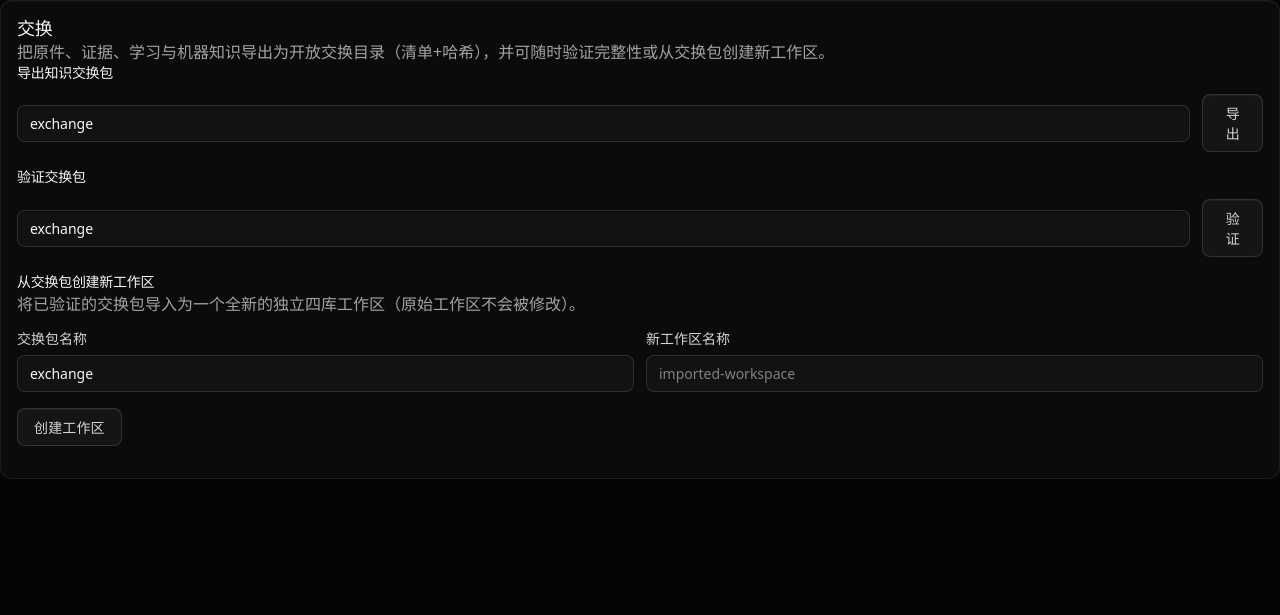
Test: ExchangeSpace › exports an exchange package and shows the receipt
In the field named "交换包名称": (604,123) [17,105,1190,142], type "course"
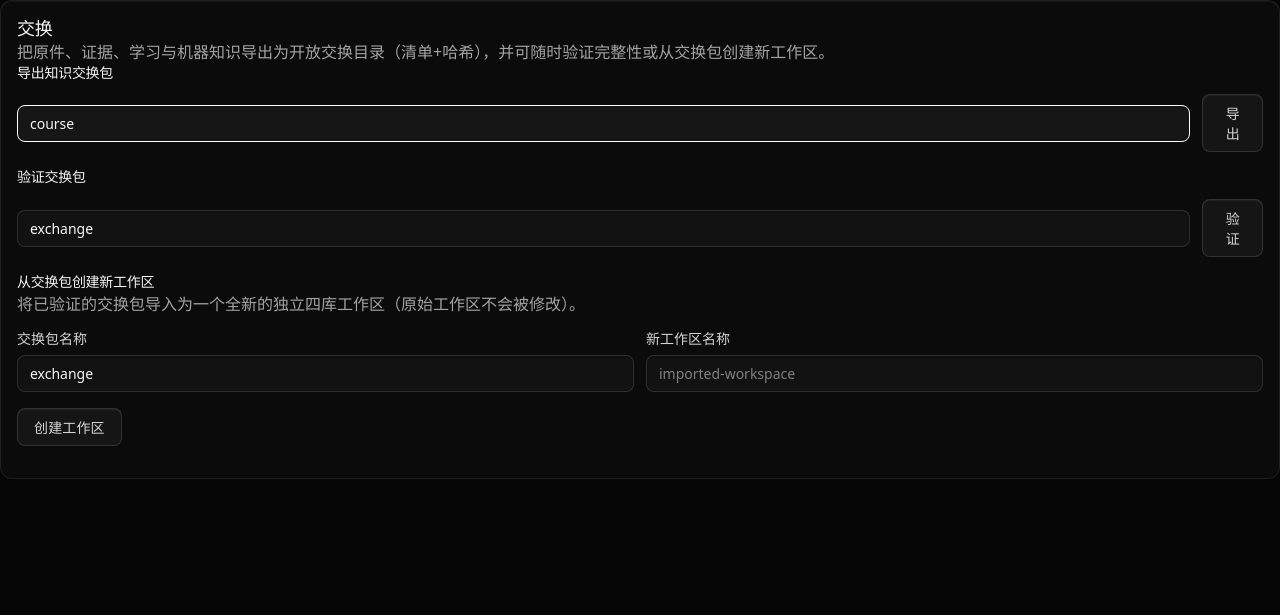
Click the button "导出": (1233,123) [1202,94,1263,152]
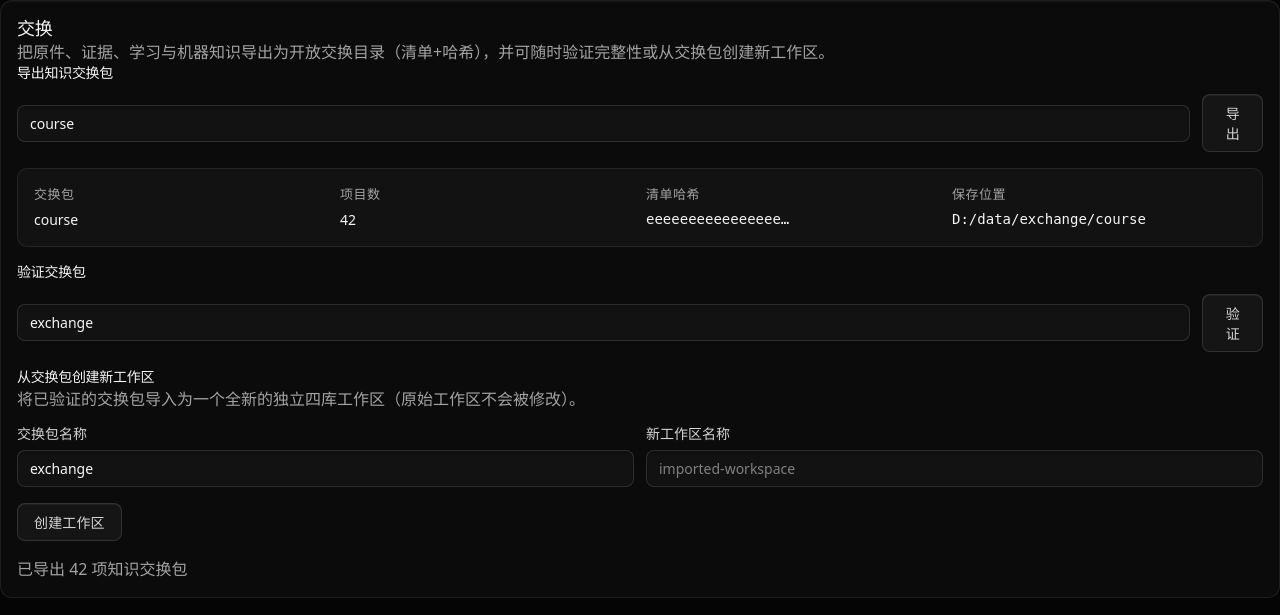
Expected: the text "已导出 42 项知识交换包" is shown, [17,558,188,580]
Expected: the text "42" is shown, [340,210,356,229]
